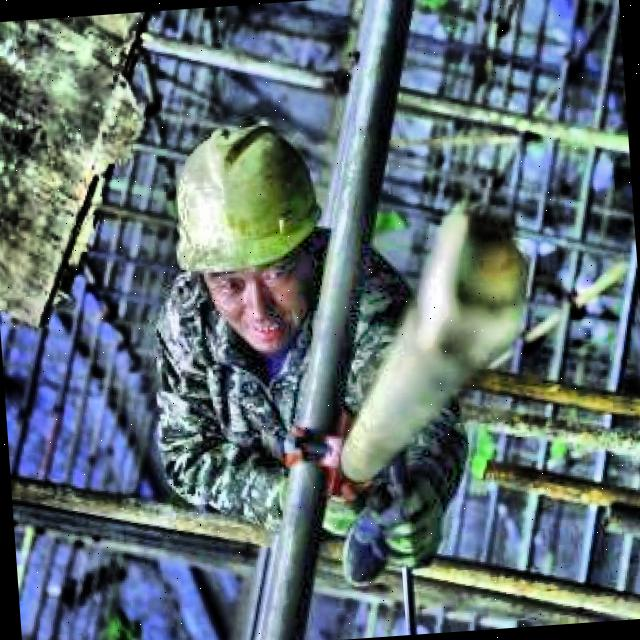helmet: (154, 98, 348, 361)
